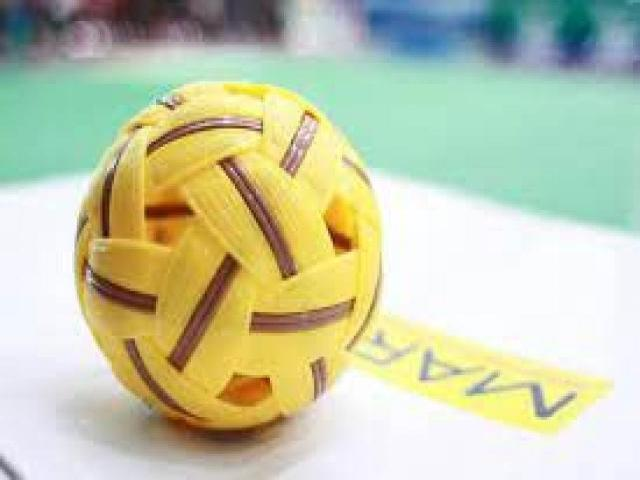round ball: (75, 83, 381, 429)
